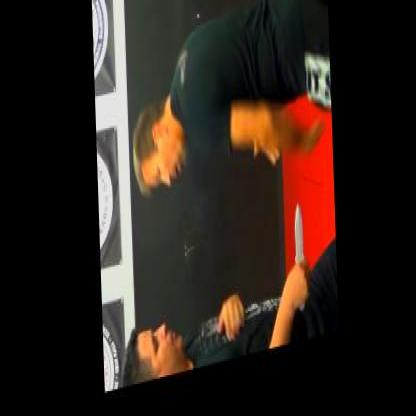knife: (285, 209, 306, 337)
